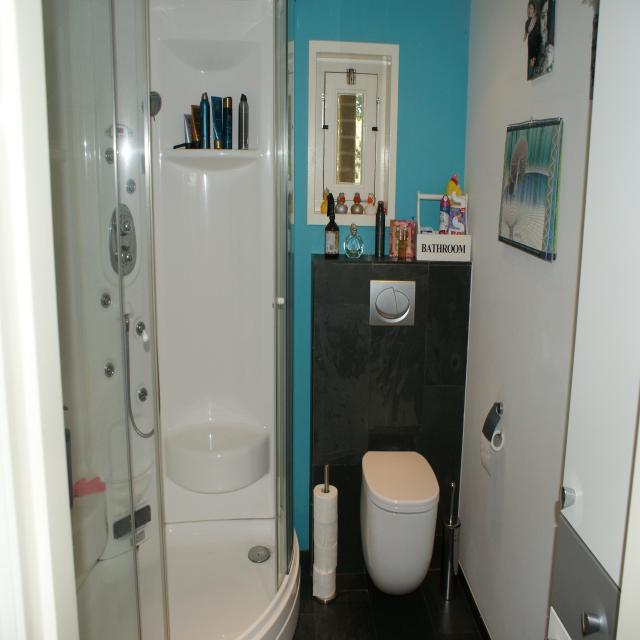douche: (11, 0, 301, 640)
toilet: (362, 278, 439, 594)
